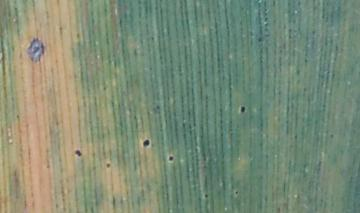tarspot: (25, 36, 45, 62), (74, 147, 83, 157), (141, 138, 150, 148), (103, 161, 112, 169), (239, 105, 247, 114), (166, 154, 175, 161), (233, 189, 240, 196), (204, 192, 209, 198)
